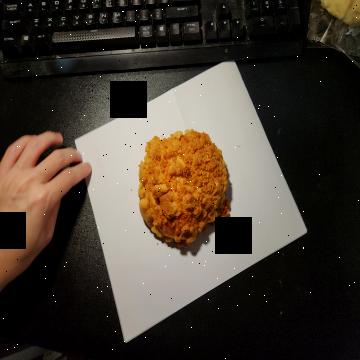soboru_bread: (138, 130, 234, 253)
